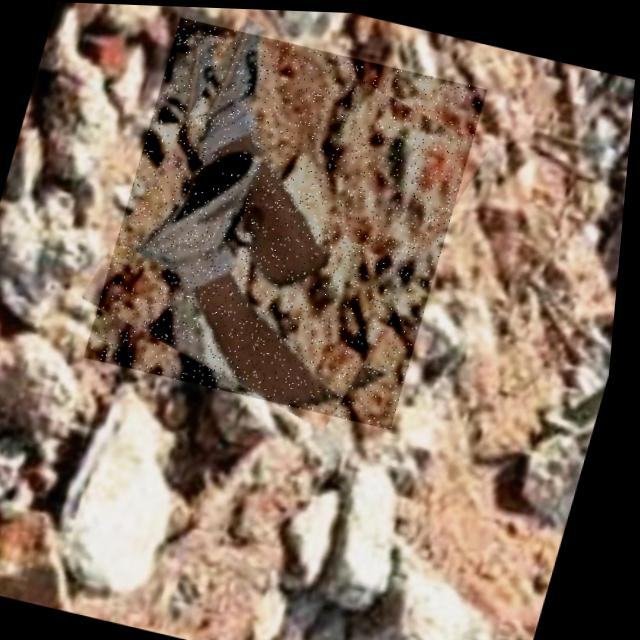Person in Rubble: (85, 14, 492, 428)
